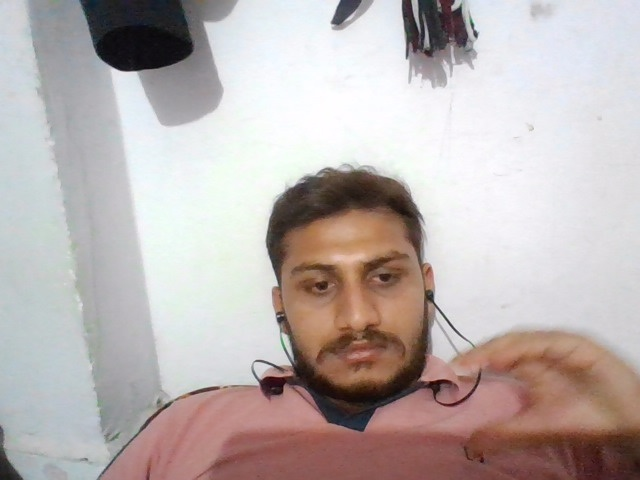No: (444, 325, 640, 456)
